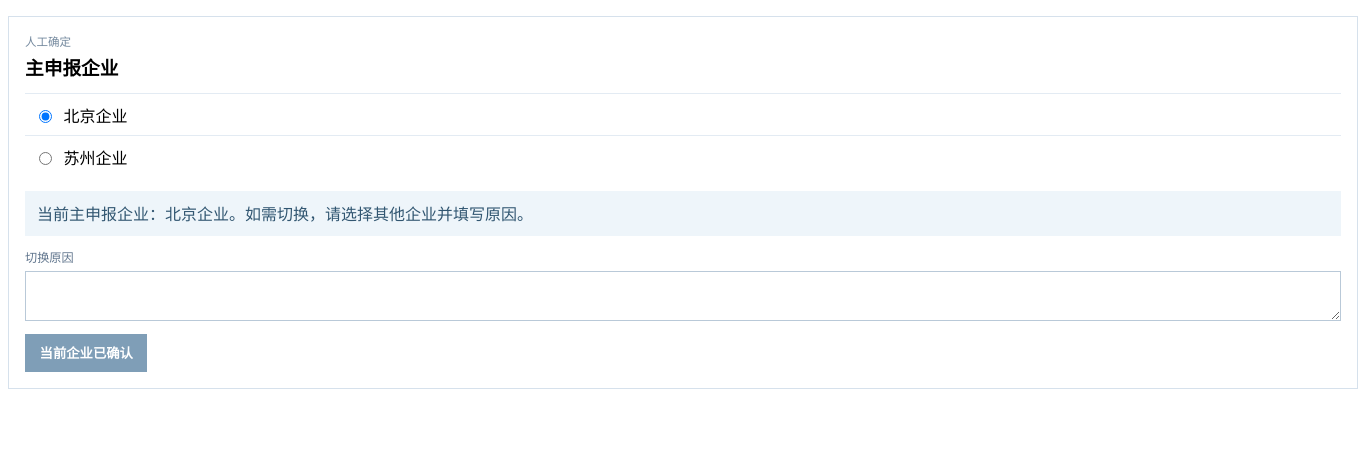
Test: requires a reason when changing the selected entity
Click the radio button labelled "苏州企业": point(45, 159) [39, 148, 52, 169]
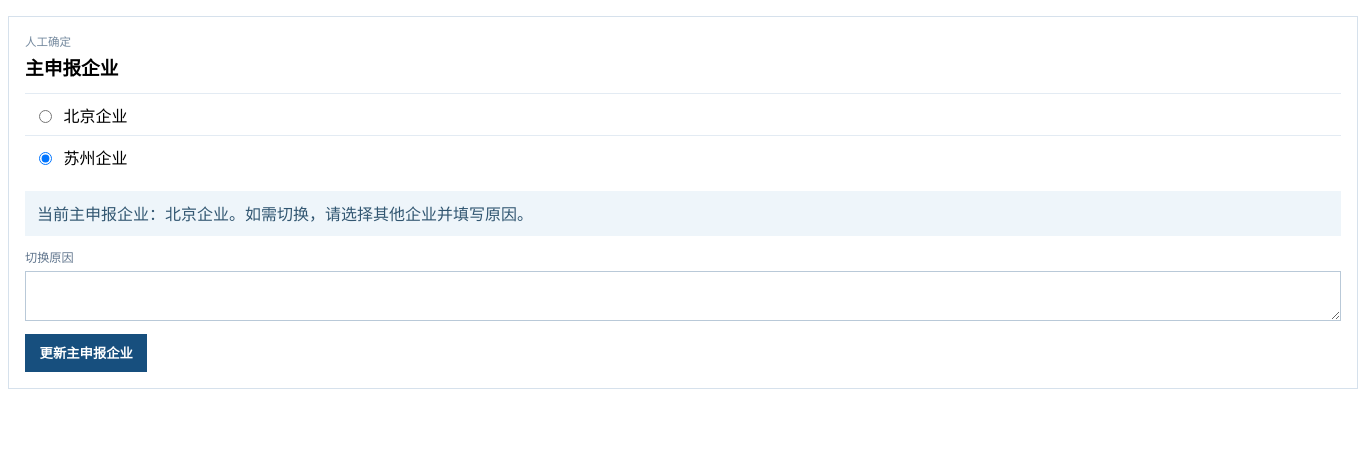
Submit the form
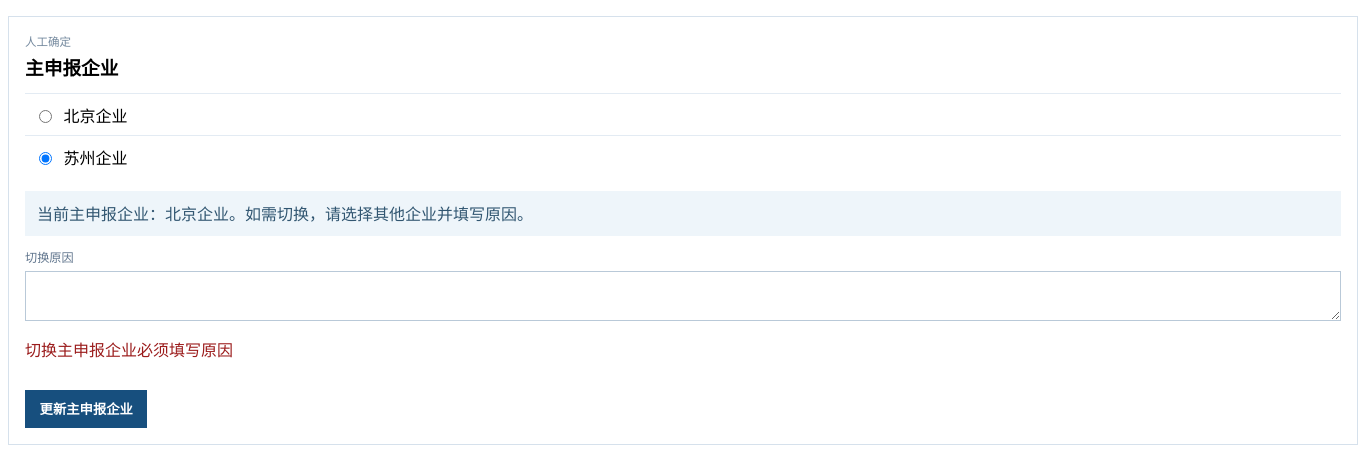
Expected: the form shows "切换主申报企业必须填写原因", [25, 342, 233, 359]
